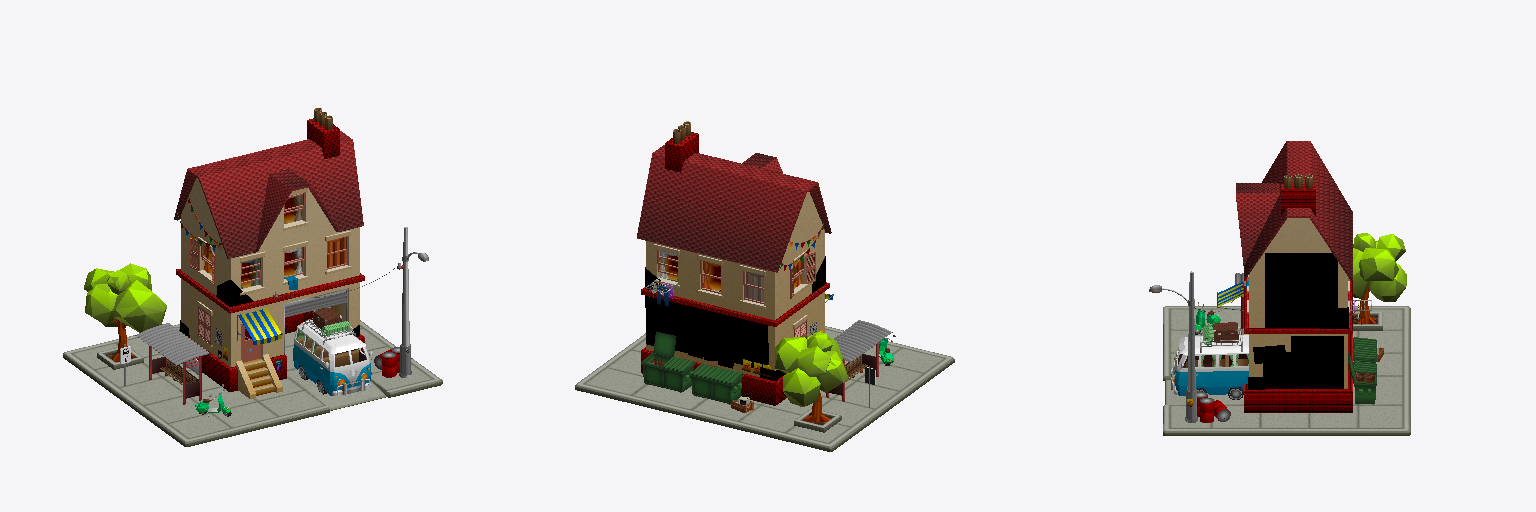
3 renders of one model, left to right at view 1: azimuth 30°, elevation 25°; view 2: azimuth 150°, elevation 25°; view 3: azimuth 270°, elevation 25°, orthographic.
Parts seen in each view (by area): view 1: ctmcasa:House_Mesh_009_House_Mesh_009_07___Default, ctmcasa:Sidewalk_Mesh_012_Sidewalk_Mesh_012_07___Default, ctmcasa:Kombi_Mesh_010_Kombi_Mesh_010_07___Default, ctmcasa:Tree_Mesh_014_Tree_Mesh_014_07___Default, ctmcasa:BusStop_Mesh_006_BusStop_Mesh_006_07___Default, ctmcasa:LightPost_Mesh_011_LightPost_Mesh_011_07___Default, ctmcasa:Bricks_Mesh_031_Bricks_Mesh_031_08___Default; view 2: ctmcasa:House_Mesh_009_House_Mesh_009_07___Default, ctmcasa:Sidewalk_Mesh_012_Sidewalk_Mesh_012_07___Default, ctmcasa:Graffiti_Mesh_026_Graffiti_Mesh_026_08___Default, ctmcasa:Tree_Mesh_014_Tree_Mesh_014_07___Default, ctmcasa:BusStop_Mesh_006_BusStop_Mesh_006_07___Default, ctmcasa:Garbage_open_Mesh_008_Garbage_open_Mesh_008_07___Default, ctmcasa:Garbage_closed_Mesh_019_Garbage_closed_Mesh_019_07___Def, ctmcasa:Bricks_Mesh_031_Bricks_Mesh_031_08___Default; view 3: ctmcasa:House_Mesh_009_House_Mesh_009_07___Default, ctmcasa:Sidewalk_Mesh_012_Sidewalk_Mesh_012_07___Default, ctmcasa:Graffiti_Mesh_026_Graffiti_Mesh_026_08___Default, ctmcasa:Kombi_Mesh_010_Kombi_Mesh_010_07___Default, ctmcasa:Tree_Mesh_014_Tree_Mesh_014_07___Default, ctmcasa:LightPost_Mesh_011_LightPost_Mesh_011_07___Default, ctmcasa:Garbage_open_Mesh_008_Garbage_open_Mesh_008_07___Default, ctmcasa:Bricks_Mesh_031_Bricks_Mesh_031_08___Default, ctmcasa:Garbage_closed_Mesh_019_Garbage_closed_Mesh_019_07___Def.
Part boxes in pixels (bbox=[...]): ctmcasa:House_Mesh_009_House_Mesh_009_07___Default: bbox=[174, 108, 364, 398]; ctmcasa:Sidewalk_Mesh_012_Sidewalk_Mesh_012_07___Default: bbox=[63, 320, 442, 446]; ctmcasa:Kombi_Mesh_010_Kombi_Mesh_010_07___Default: bbox=[293, 307, 372, 395]; ctmcasa:Tree_Mesh_014_Tree_Mesh_014_07___Default: bbox=[84, 263, 166, 369]; ctmcasa:BusStop_Mesh_006_BusStop_Mesh_006_07___Default: bbox=[120, 323, 208, 404]; ctmcasa:LightPost_Mesh_011_LightPost_Mesh_011_07___Default: bbox=[399, 227, 428, 377]; ctmcasa:Bricks_Mesh_031_Bricks_Mesh_031_08___Default: bbox=[180, 280, 359, 337]; ctmcasa:House_Mesh_009_House_Mesh_009_07___Default: bbox=[637, 121, 833, 405]; ctmcasa:Sidewalk_Mesh_012_Sidewalk_Mesh_012_07___Default: bbox=[575, 326, 954, 451]; ctmcasa:Graffiti_Mesh_026_Graffiti_Mesh_026_08___Default: bbox=[645, 296, 768, 368]; ctmcasa:Tree_Mesh_014_Tree_Mesh_014_07___Default: bbox=[775, 332, 848, 432]; ctmcasa:BusStop_Mesh_006_BusStop_Mesh_006_07___Default: bbox=[826, 320, 892, 407]; ctmcasa:Garbage_open_Mesh_008_Garbage_open_Mesh_008_07___Default: bbox=[641, 331, 694, 392]; ctmcasa:Garbage_closed_Mesh_019_Garbage_closed_Mesh_019_07___Def: bbox=[690, 363, 743, 404]; ctmcasa:Bricks_Mesh_031_Bricks_Mesh_031_08___Default: bbox=[645, 256, 825, 380]; ctmcasa:House_Mesh_009_House_Mesh_009_07___Default: bbox=[1217, 141, 1352, 412]; ctmcasa:Sidewalk_Mesh_012_Sidewalk_Mesh_012_07___Default: bbox=[1163, 306, 1410, 435]; ctmcasa:Graffiti_Mesh_026_Graffiti_Mesh_026_08___Default: bbox=[1253, 253, 1343, 388]; ctmcasa:Kombi_Mesh_010_Kombi_Mesh_010_07___Default: bbox=[1171, 322, 1248, 399]; ctmcasa:Tree_Mesh_014_Tree_Mesh_014_07___Default: bbox=[1353, 233, 1406, 330]; ctmcasa:LightPost_Mesh_011_LightPost_Mesh_011_07___Default: bbox=[1149, 271, 1197, 422]; ctmcasa:Garbage_open_Mesh_008_Garbage_open_Mesh_008_07___Default: bbox=[1348, 353, 1376, 404]; ctmcasa:Bricks_Mesh_031_Bricks_Mesh_031_08___Default: bbox=[1248, 307, 1348, 389]; ctmcasa:Garbage_closed_Mesh_019_Garbage_closed_Mesh_019_07___Def: bbox=[1353, 337, 1376, 362].
Size of the model in its own units: 21.71 by 18.86 by 19.06.
Materials: 2 (1 with a texture image).